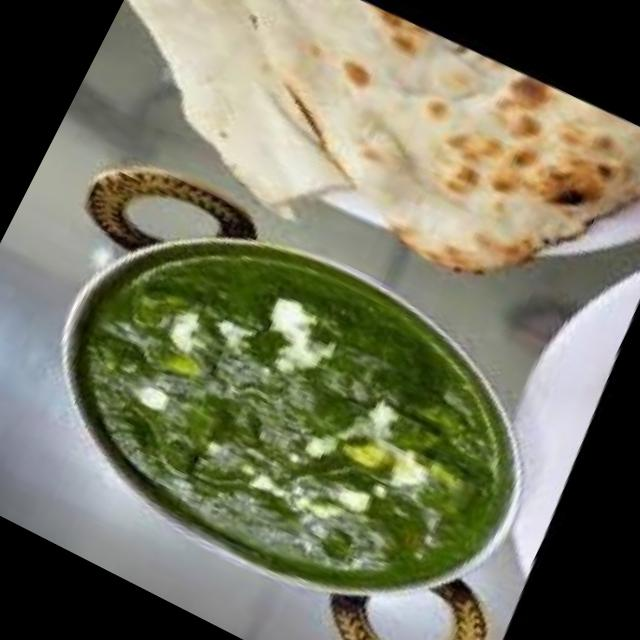palak_paneer: (17, 175, 586, 640)
